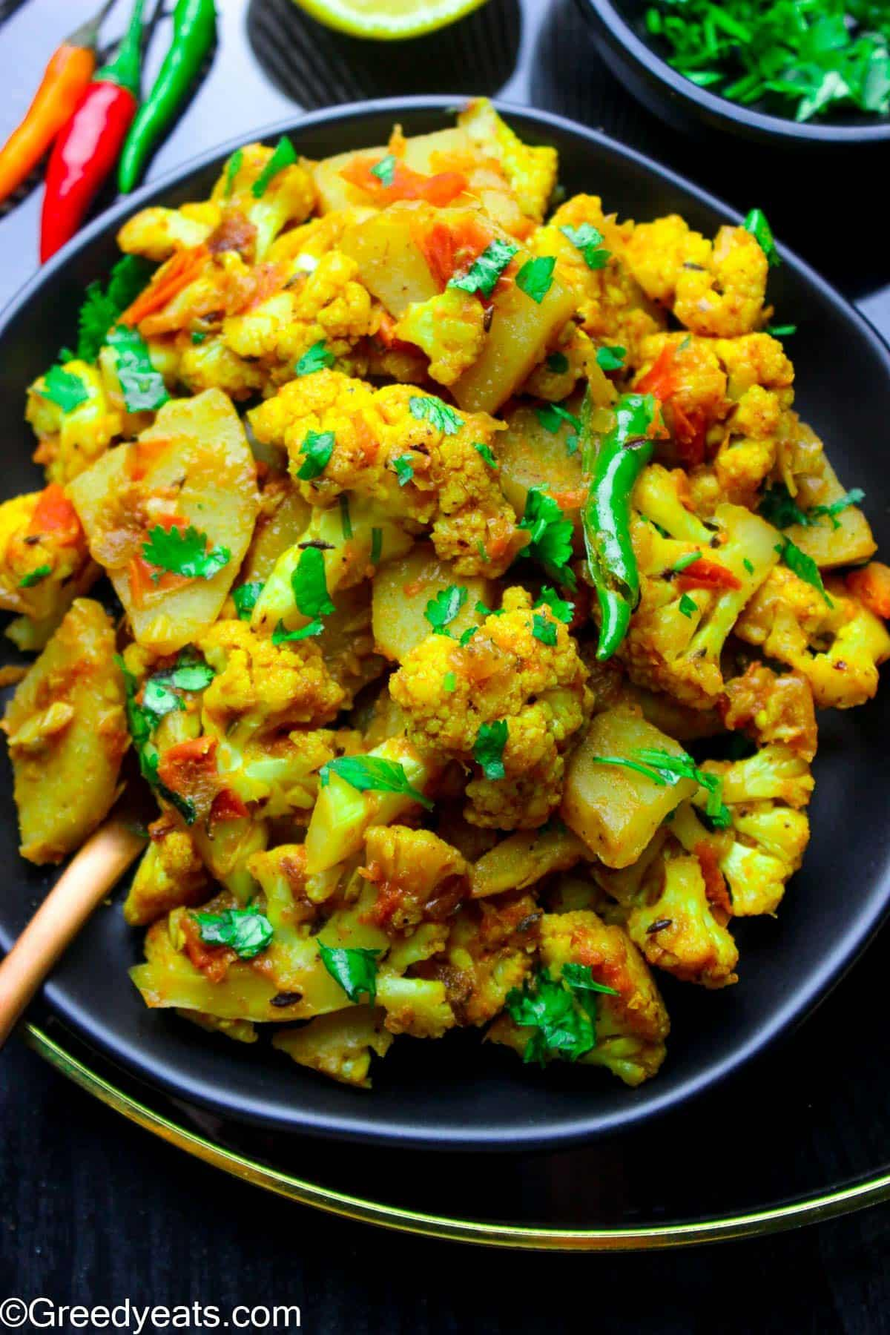aloo gobhi: (16, 146, 834, 1059)
